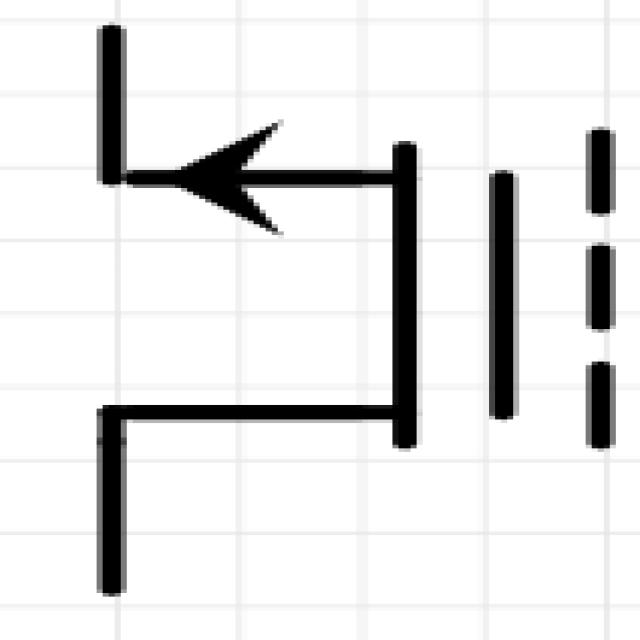nmos: (55, 6, 640, 611)
